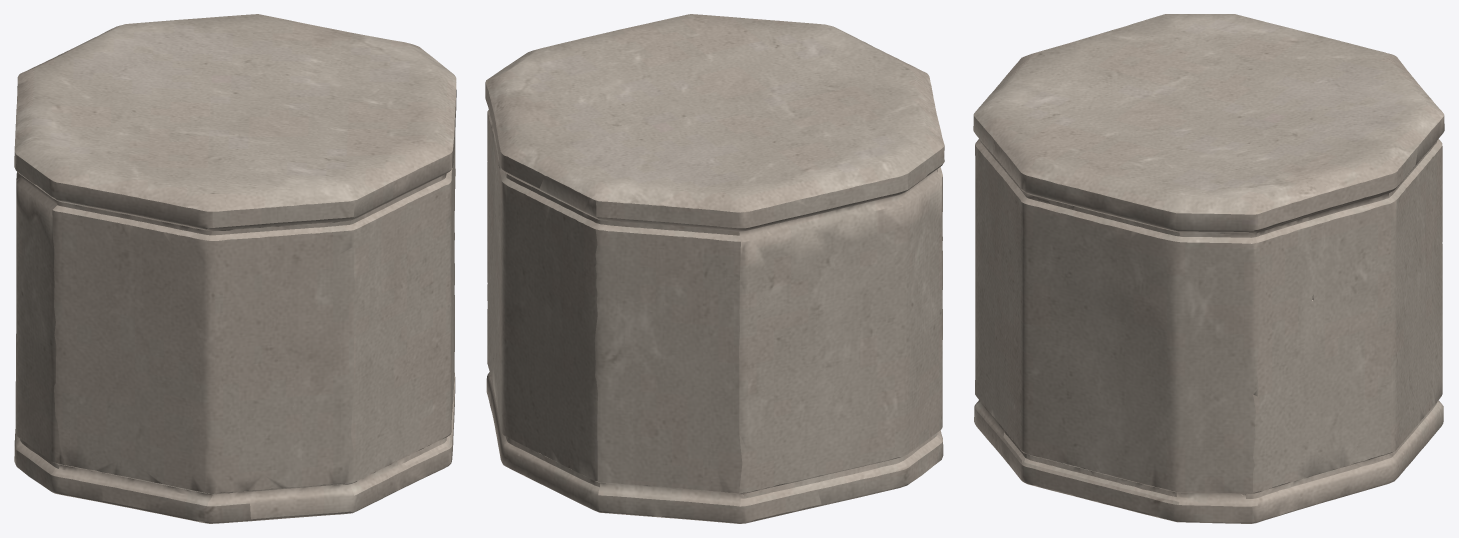
3 renders of one model, left to right at view 1: azimuth 30°, elevation 25°; view 2: azimuth 150°, elevation 25°; view 3: azimuth 270°, elevation 25°, orthographic.
Visible parts, largest first — view 1: world; view 2: world; view 3: world.
Boxes of the visible parts, x1=… form: world: x1=14, y1=14, x2=456, y2=523; world: x1=485, y1=14, x2=944, y2=523; world: x1=973, y1=14, x2=1444, y2=523.
Size of the model in its own units: 0.6 by 0.455 by 0.5986.
Materials: 1 (1 with a texture image).
